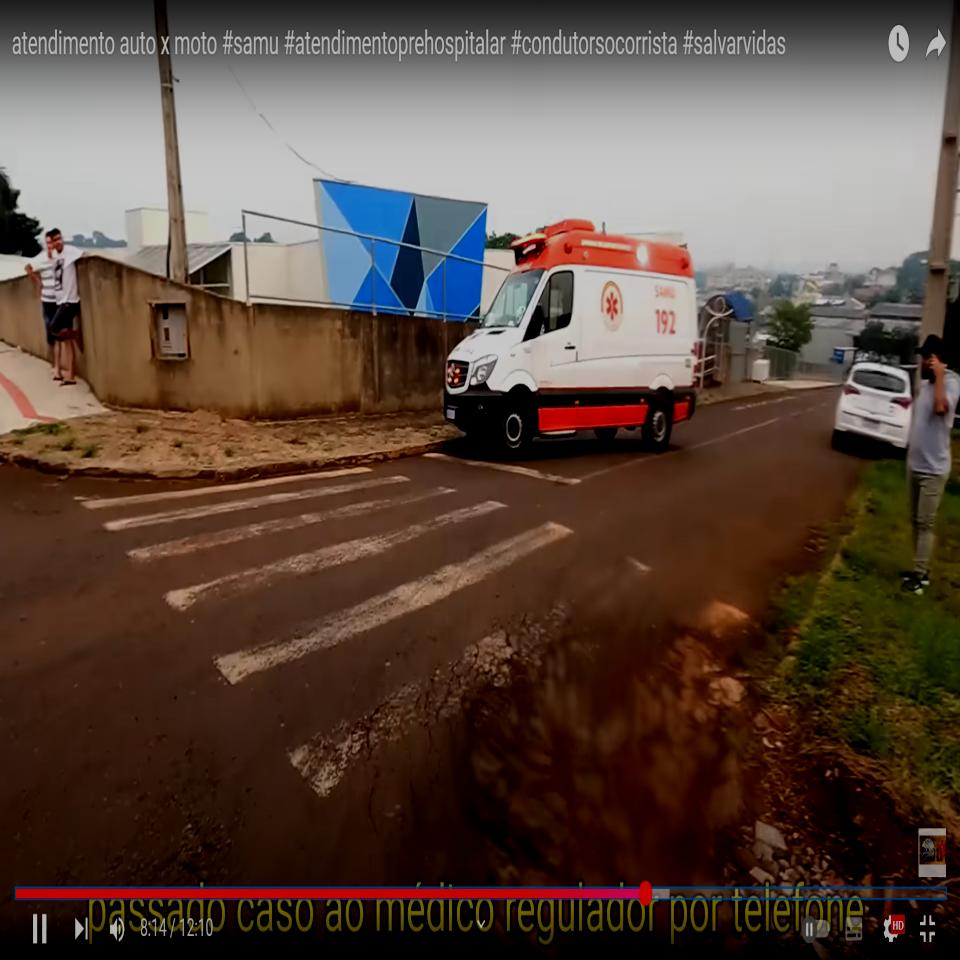ambulancia: (443, 221, 706, 461)
